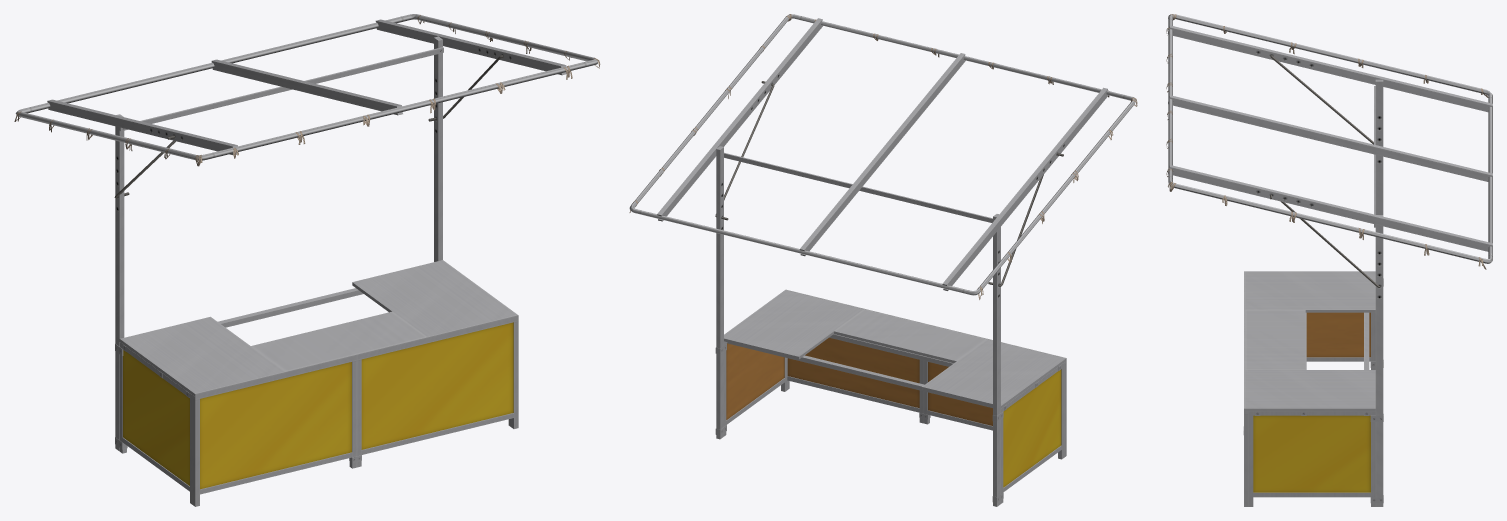
Rendered from jsf_2P_s02_c03_t04.fbx.
3 views of the same model, side by side, from view 1: azimuth 30°, elevation 25°; view 2: azimuth 150°, elevation 25°; view 3: azimuth 270°, elevation 25° (orthographic). The views are drawn at different scales.
Visible parts, largest first — view 1: Base_s02_c03, Table_2P_s02_t04, Pillar2_s02, Rope_2P_s02; view 2: Pillar2_s02, Base_s02_c03, Table_2P_s02_t04; view 3: Pillar2_s02, Base_s02_c03, Table_2P_s02_t04, Rope_2P_s02.
Boxes of the visible parts, x1,y1,x2,y2 form: Base_s02_c03: (115,315,518,506); Table_2P_s02_t04: (119,260,517,397); Pillar2_s02: (15,14,597,451); Rope_2P_s02: (14,15,600,166); Pillar2_s02: (629,14,1135,506); Base_s02_c03: (715,289,1066,503); Table_2P_s02_t04: (724,290,1065,410); Pillar2_s02: (1168,14,1492,506); Base_s02_c03: (1243,271,1383,506); Table_2P_s02_t04: (1245,271,1375,415); Rope_2P_s02: (1166,14,1488,269).
Size of the model in its own units: 264 by 244 by 211.
